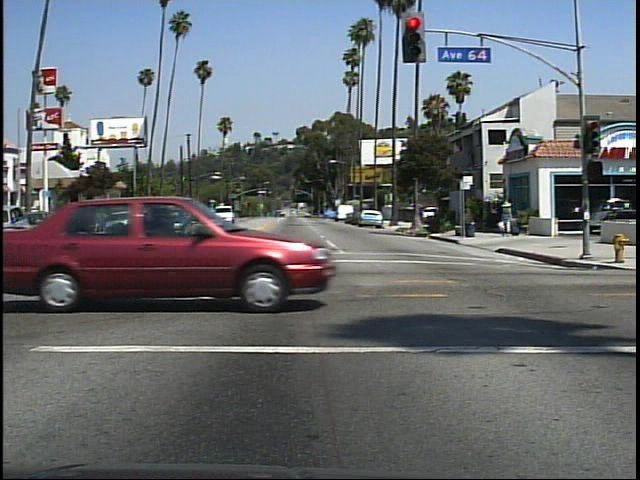person: (494, 195, 521, 240)
